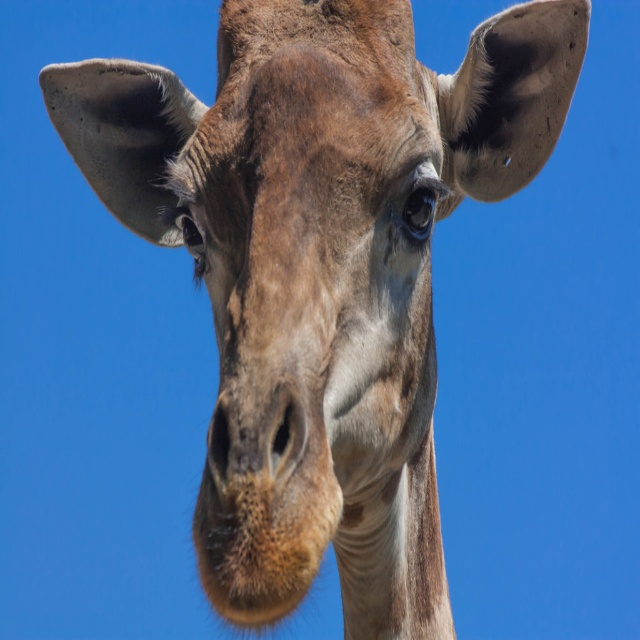Giraffe: (40, 0, 597, 639)
